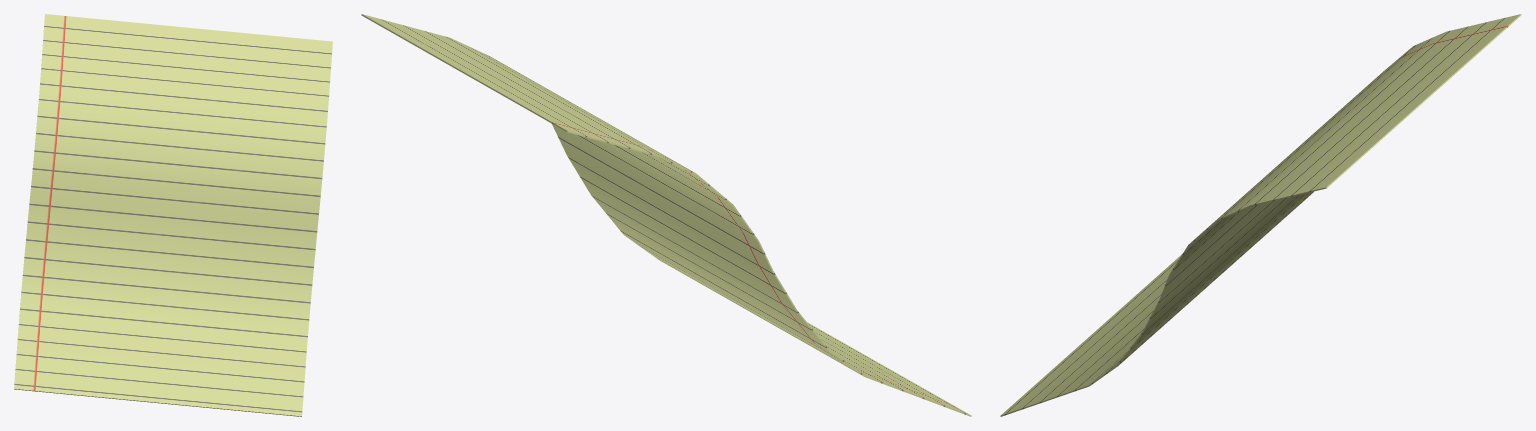
The model's file is clippy.fbx.
3 renders of one model, left to right at view 1: azimuth 30°, elevation 25°; view 2: azimuth 150°, elevation 25°; view 3: azimuth 270°, elevation 25°, orthographic. The views are drawn at different scales.
Parts seen in each view (by area): view 1: HOJA; view 2: HOJA; view 3: HOJA.
Boxes of the visible parts, box(x1,y1,x2,y2) form: HOJA: box(14, 14, 332, 416); HOJA: box(361, 14, 971, 416); HOJA: box(1000, 14, 1521, 416).
Size of the model in its own units: 606 by 431 by 560.
Materials: 1 (1 with a texture image).
